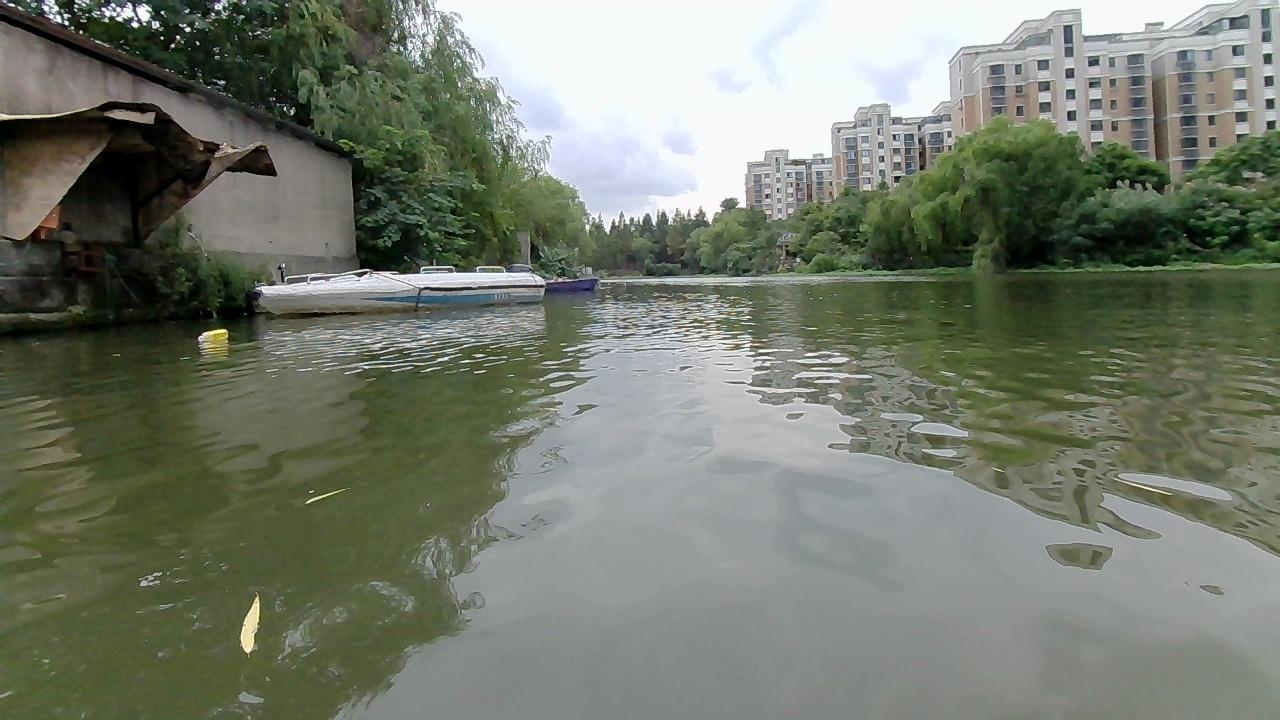bottle: (195, 328, 225, 344)
